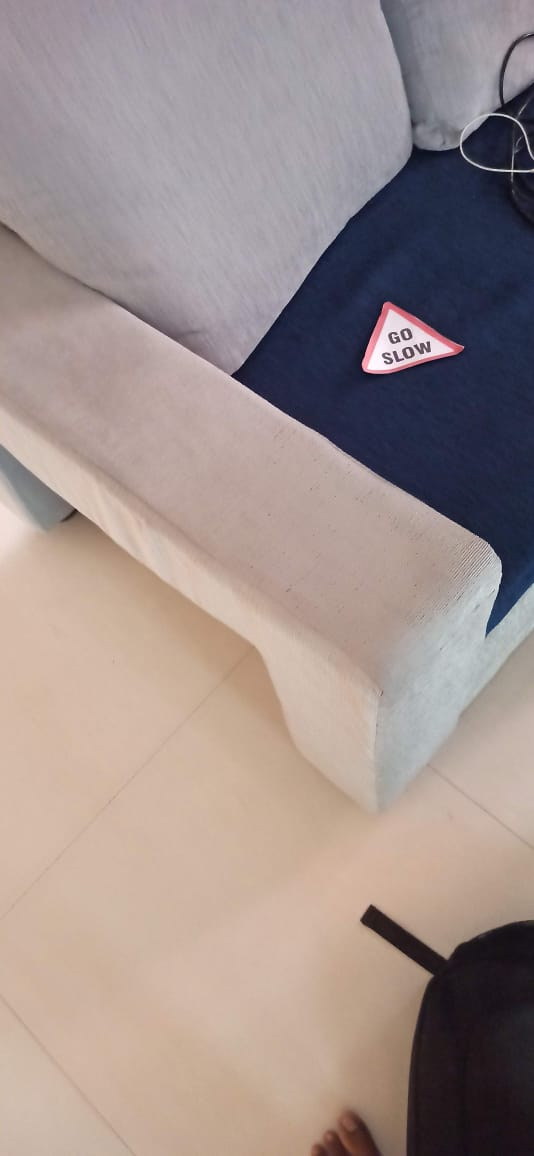GO SLOW: (352, 276, 478, 379)
